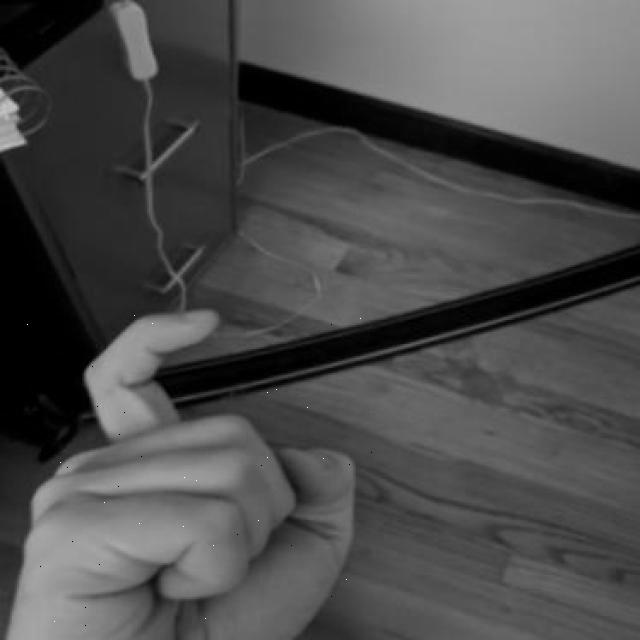X: (0, 284, 397, 638)
